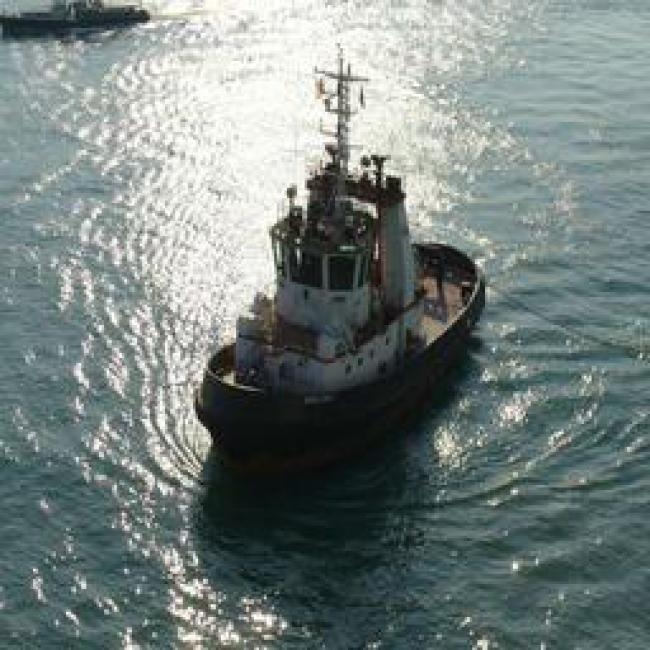Ship: (130, 189, 537, 464)
